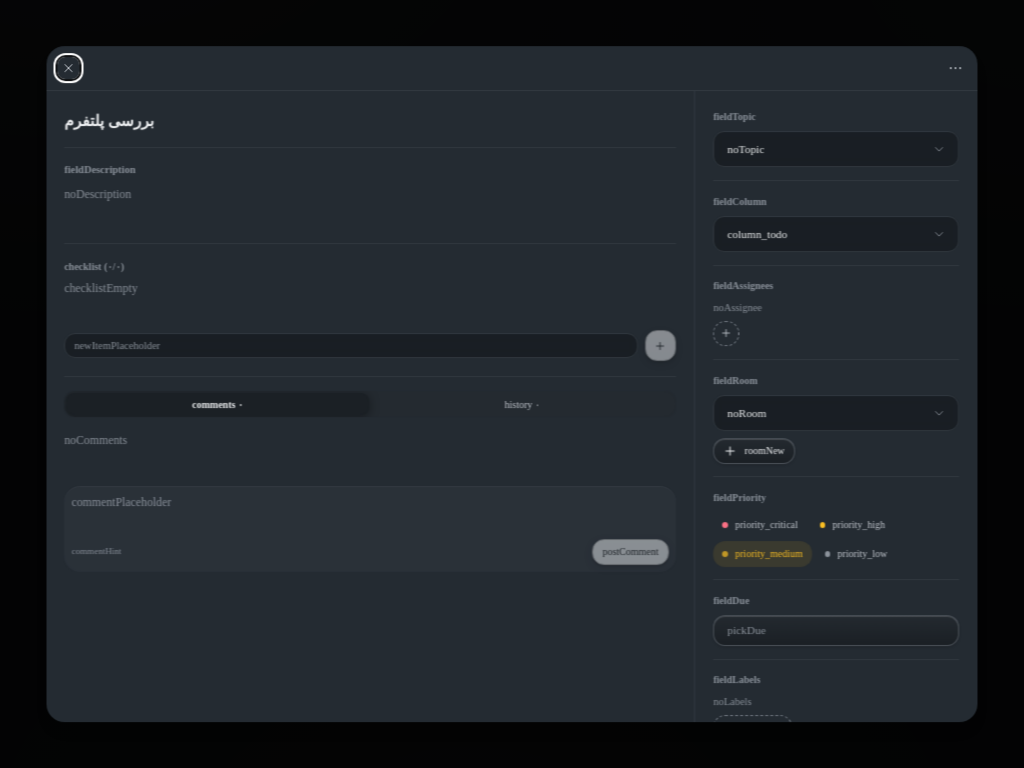
Scenario: the task's room — an admin's control › offers the org's LIVE rooms in the kit's dropdown, «no room» first, and never an archived one
Click the dropdown named "fieldRoom". click: (837, 413)
box: top-left (714, 395), bottom-right (959, 431)
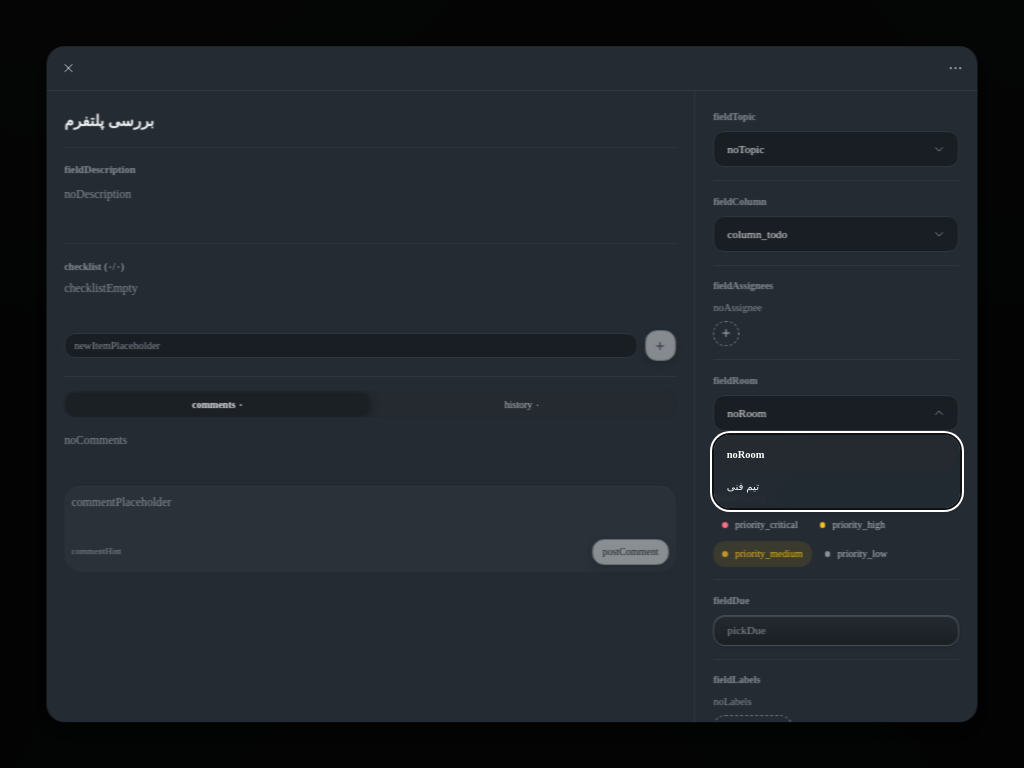
Check: the options read "noRoom", "تیم فنی", in this order, box top-left (718, 439), bottom-right (956, 471); top-left (727, 481), bottom-right (759, 492)
